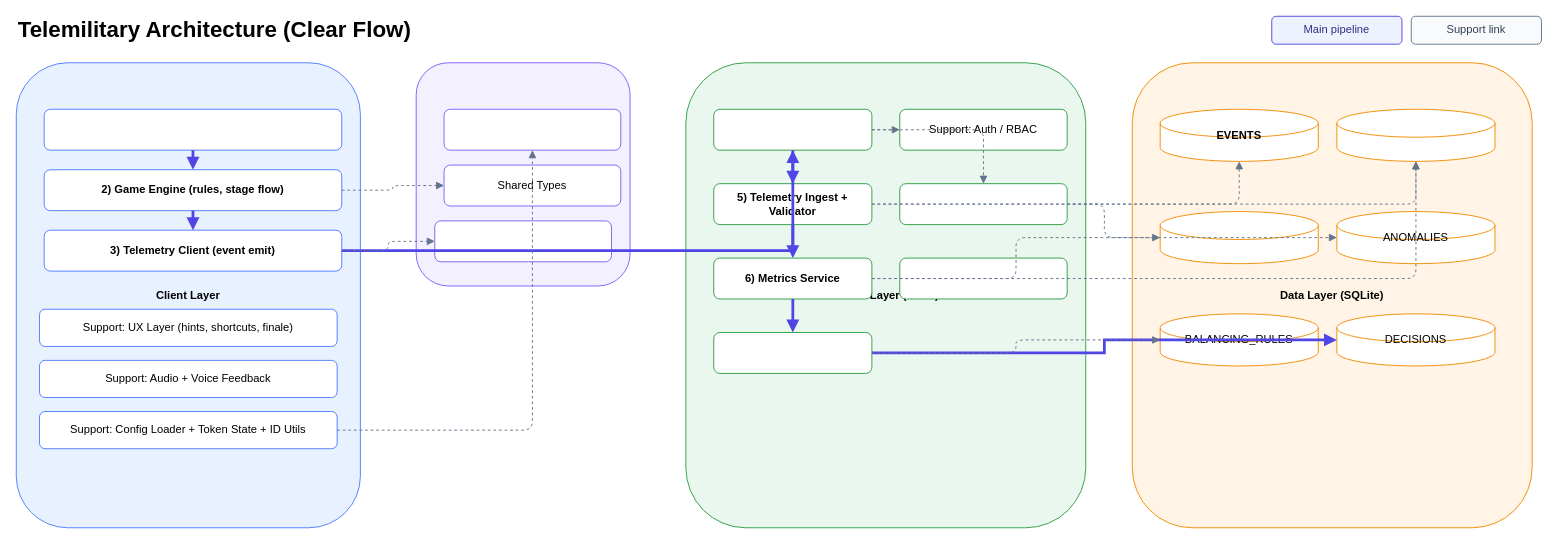
The diagram is 1558 pixels wide and 544 high, and some of its shapes have lost their labels. The shapes that lost their labels are listed below. From the top down, each one's centre as x and y in pixels, then its label:
At point (192, 129): "1) UI: Pages & Components".
At point (532, 129): "Stage Configs".
At point (792, 129): "4) API Routes".
At point (1415, 134): "SESSIONS".
At point (983, 204): "Support: Seed Controller".
At point (522, 241): "Telemetry Shapes".
At point (1238, 237): "CONFIGS + STAGES".
At point (983, 278): "Support: exports + decision log API".
At point (792, 352): "7) Balancing + Simulation".
